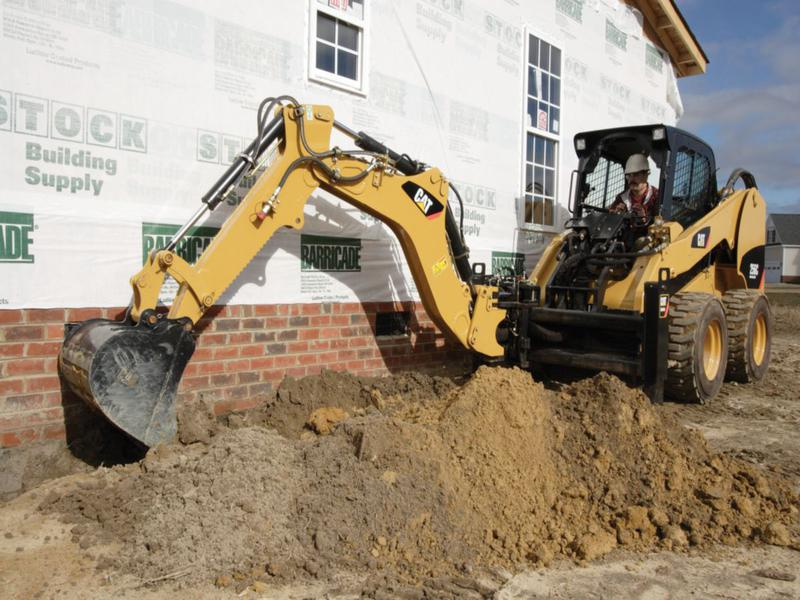shovel: (44, 91, 782, 450)
